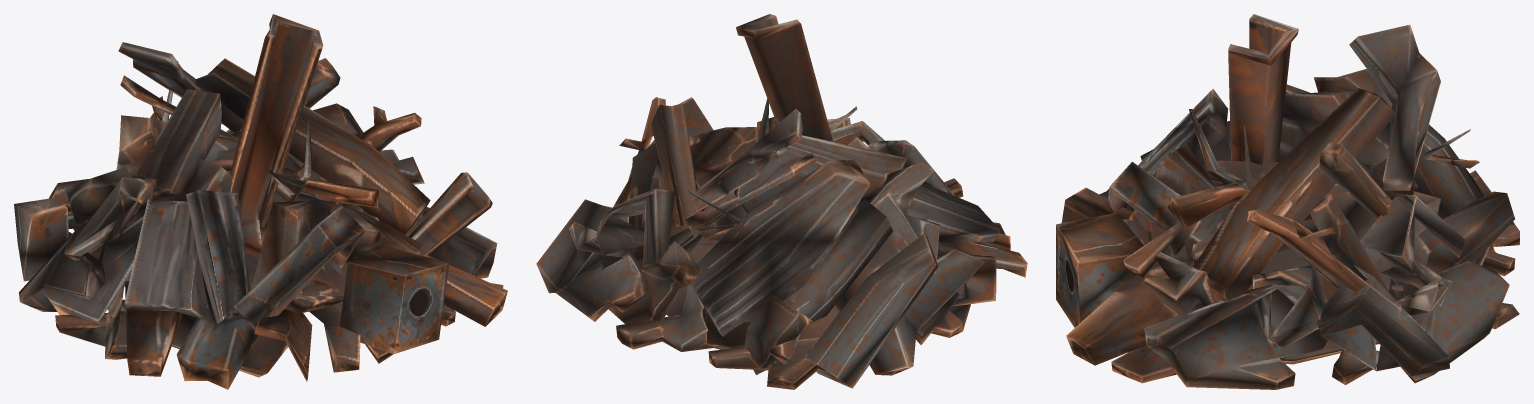
The model's file is Meshy_AI_Rustheap_Monument_0910090023_texture.fbx.
The picture shows the model from 3 angles, left to right: view 1: azimuth 30°, elevation 25°; view 2: azimuth 150°, elevation 25°; view 3: azimuth 270°, elevation 25°; orthographic projection. The views are drawn at different scales.
Visible parts, largest first — view 1: Mesh_0; view 2: Mesh_0; view 3: Mesh_0.
Part boxes in pixels (box(x1,y1,x2,y2)): Mesh_0: box(14, 14, 507, 389); Mesh_0: box(536, 14, 1027, 389); Mesh_0: box(1056, 14, 1519, 389).
Size of the model in its own units: 100 by 71.09 by 100.
1 material, 1 textured.
